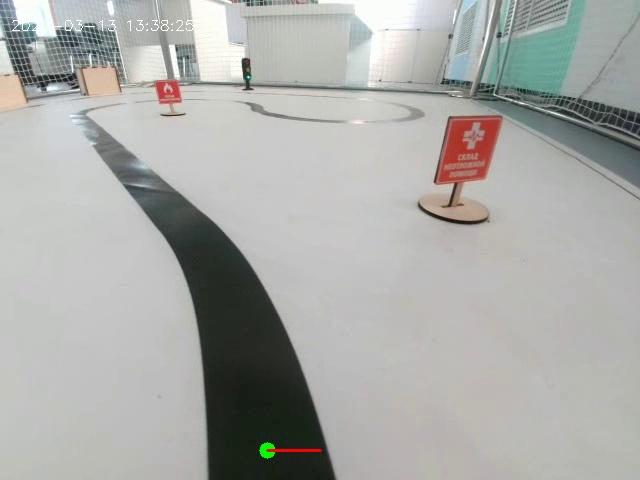flood: (136, 63, 193, 136)
medical: (407, 109, 514, 224)
